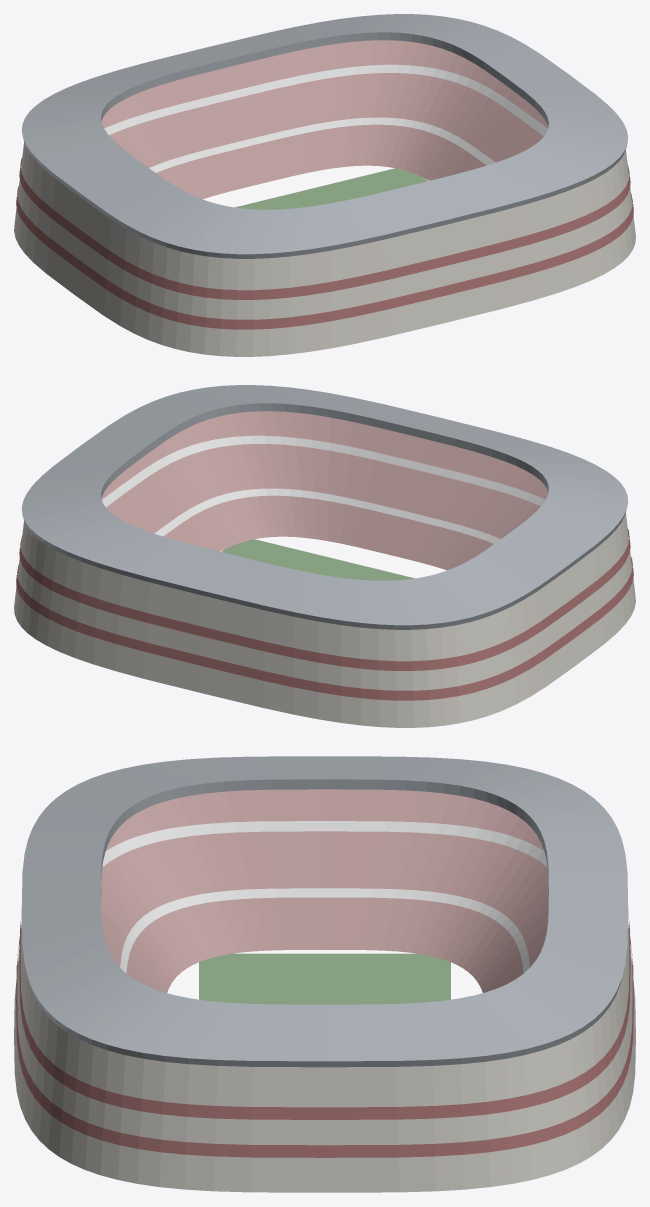
The model's file is sanchezpizjuan.glb.
The picture shows the model from 3 angles, top to bottom: view 1: azimuth 30°, elevation 25°; view 2: azimuth 150°, elevation 25°; view 3: azimuth 270°, elevation 25°; orthographic projection. The views are drawn at different scales.
Bounding box in the file's own units: 200 × 43 × 168.
